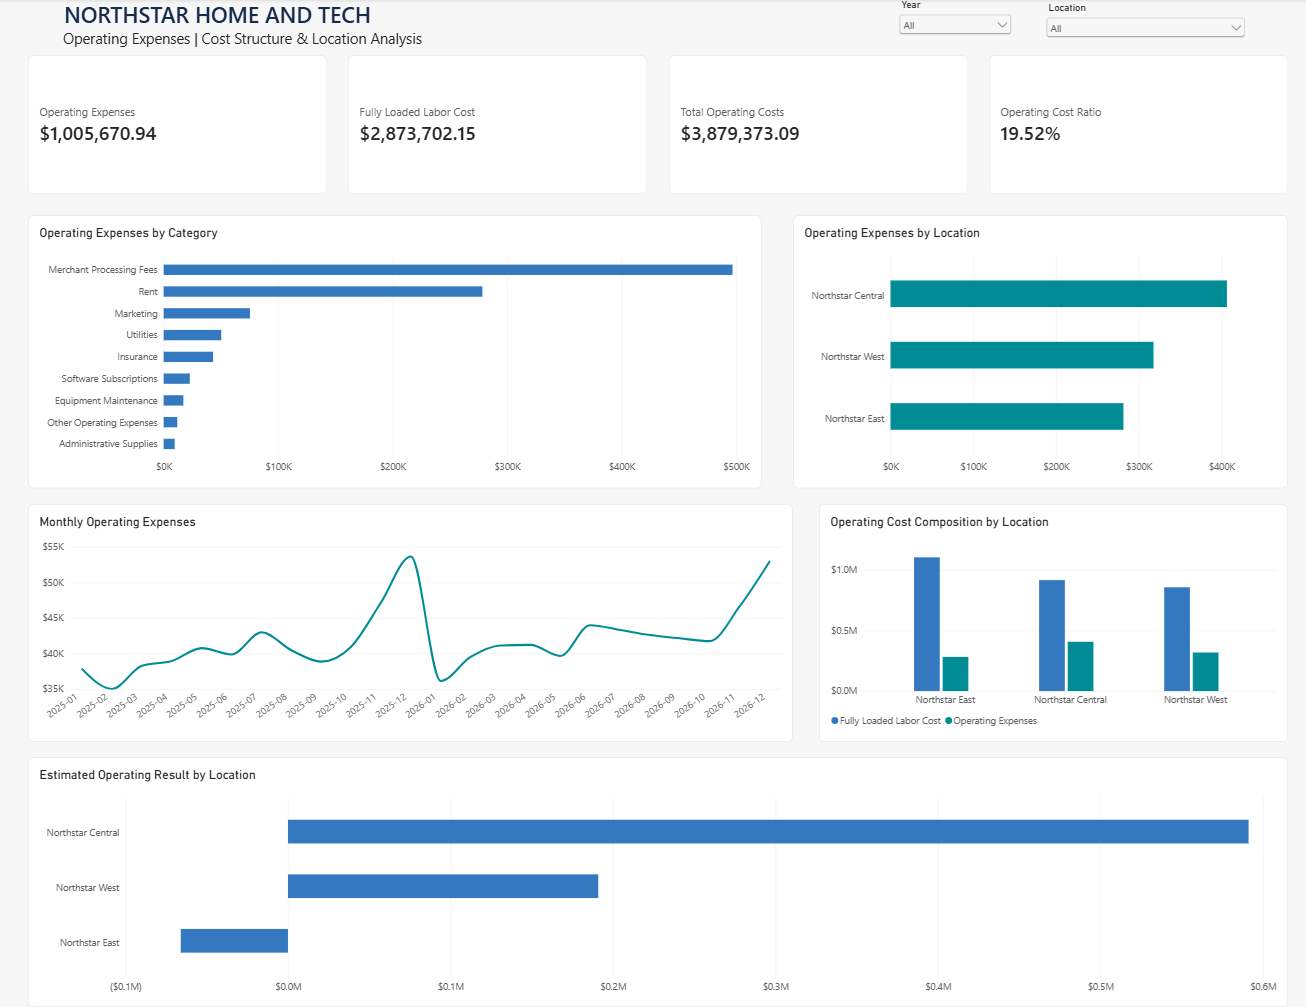

Layout of this report page (visuals, bound fields, positions):
{"tool":"powerbi","page":{"name":"Operating Expenses","canvas":[1920,1480],"ordinal":5},"visuals":[{"type":"textbox","box":[94,0,489.2,43.6],"z":0},{"type":"textbox","box":[92.9,43,638.5,39.6],"z":1000},{"type":"slicer","fields":{"Values":["DimDate.Year"]},"box":[1313.6,0,174,107],"z":2000},{"type":"slicer","fields":{"Values":["DimLocation.LocationName"]},"box":[1530.3,4.1,301.3,79.7],"z":3000},{"type":"cardVisual","fields":{"Data":["FactExpenses.Operating Expenses"]},"box":[41.3,82.6,438.8,204.8],"z":3001},{"type":"cardVisual","fields":{"Data":["FactLabor.Fully Loaded Labor Cost"]},"box":[511.1,82.6,438.8,204.8],"z":3002},{"type":"cardVisual","fields":{"Data":["FactExpenses.Total Operating Costs"]},"box":[980.9,82.6,438.8,204.8],"z":3003},{"type":"cardVisual","fields":{"Data":["FactExpenses.Operating Cost Ratio"]},"box":[1450.7,82.6,438.8,204.8],"z":3004},{"type":"clusteredBarChart","title":"Operating Expenses by Category","fields":{"Category":["DimExpenseCategory.ExpenseCategory"],"Y":["FactExpenses.Operating Expenses"]},"box":[41.3,316.7,1075.6,401],"z":3005},{"type":"clusteredBarChart","title":"Operating Expenses by Location","fields":{"Category":["DimLocation.LocationName"],"Y":["FactExpenses.Operating Expenses"]},"box":[1163.3,316.7,726.2,401],"z":3006},{"type":"lineChart","title":"Monthly Operating Expenses","fields":{"Category":["DimDate.YearMonth"],"Y":["FactExpenses.Operating Expenses"]},"box":[41.3,740,1122,349.3],"z":3007},{"type":"clusteredColumnChart","title":"Operating Cost Composition by Location","fields":{"Category":["DimLocation.LocationName"],"Y":["Sum(FactLabor.FullyLoadedLaborCost)","FactExpenses.Operating Expenses"]},"box":[1201.2,740,688.4,349.3],"z":3008},{"type":"clusteredBarChart","title":"Estimated Operating Result by Location","fields":{"Category":["DimLocation.LocationName"],"Y":["FactSales.Estimated Operating Result"]},"box":[41.3,1111.7,1848.3,368.3],"z":3009}]}

Visuals, with their boxes in screenshot pixels (x1, y1, x2, y2), scaled from the page's 1920x1480 canvas onto the 1306x1007 screenshot:
textbox: <box>64,0,397,30</box>
textbox: <box>63,29,498,56</box>
slicer - DimDate.Year: <box>894,0,1012,73</box>
slicer - DimLocation.LocationName: <box>1041,3,1246,57</box>
cardVisual - FactExpenses.Operating Expenses: <box>28,56,327,196</box>
cardVisual - FactLabor.Fully Loaded Labor Cost: <box>348,56,646,196</box>
cardVisual - FactExpenses.Total Operating Costs: <box>667,56,966,196</box>
cardVisual - FactExpenses.Operating Cost Ratio: <box>987,56,1285,196</box>
"Operating Expenses by Category" clusteredBarChart: <box>28,215,760,488</box>
"Operating Expenses by Location" clusteredBarChart: <box>791,215,1285,488</box>
"Monthly Operating Expenses" lineChart: <box>28,504,791,741</box>
"Operating Cost Composition by Location" clusteredColumnChart: <box>817,504,1285,741</box>
"Estimated Operating Result by Location" clusteredBarChart: <box>28,756,1285,1006</box>
